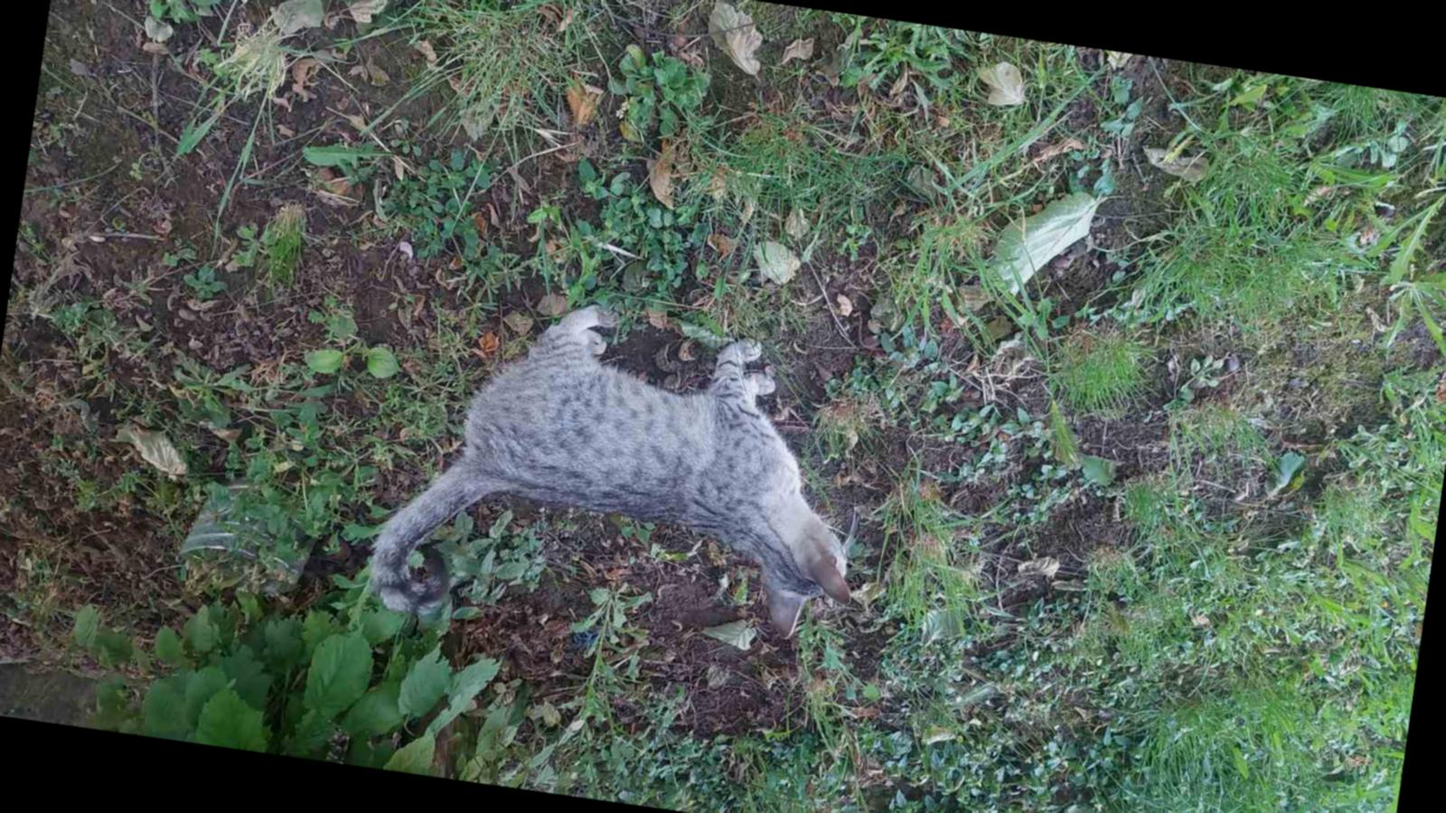macka: (363, 277, 885, 675)
